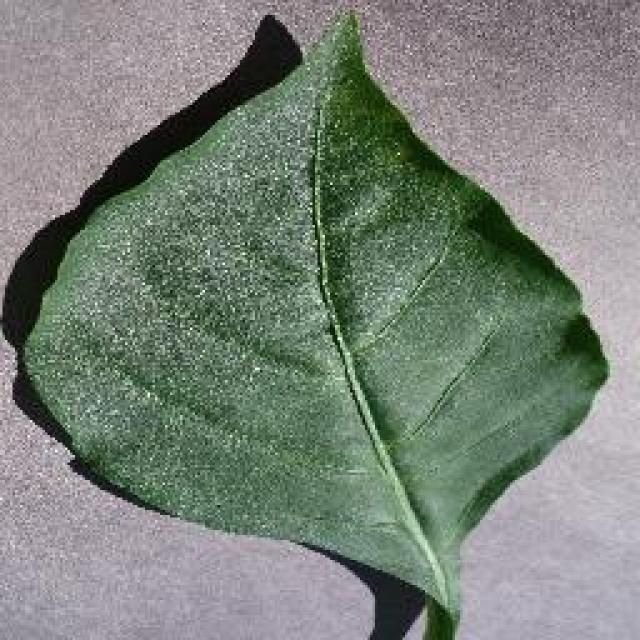Leaf: (6, 18, 626, 621)
